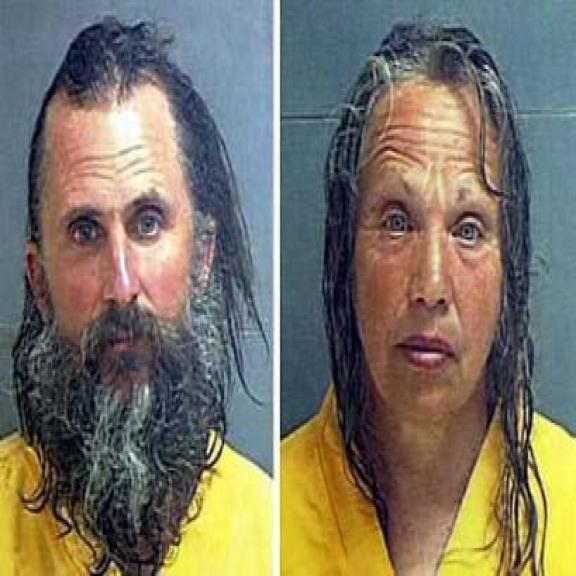face: (20, 81, 216, 394), (356, 76, 520, 431)
